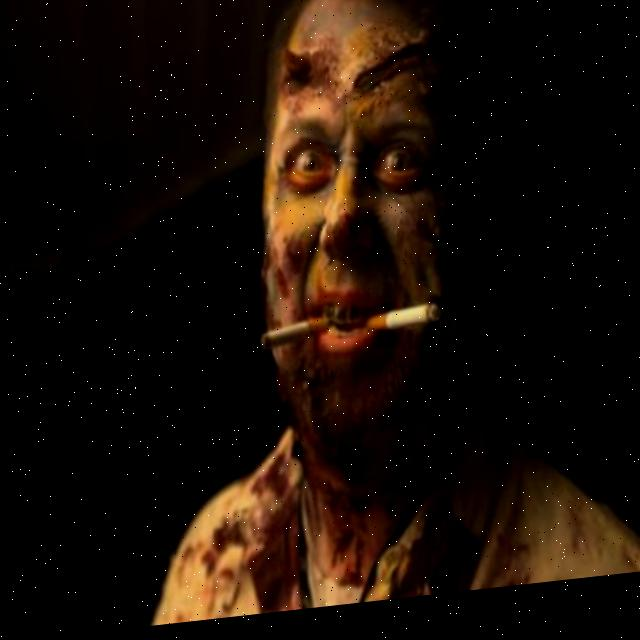cigarette: (257, 319, 330, 357), (363, 310, 440, 341)
